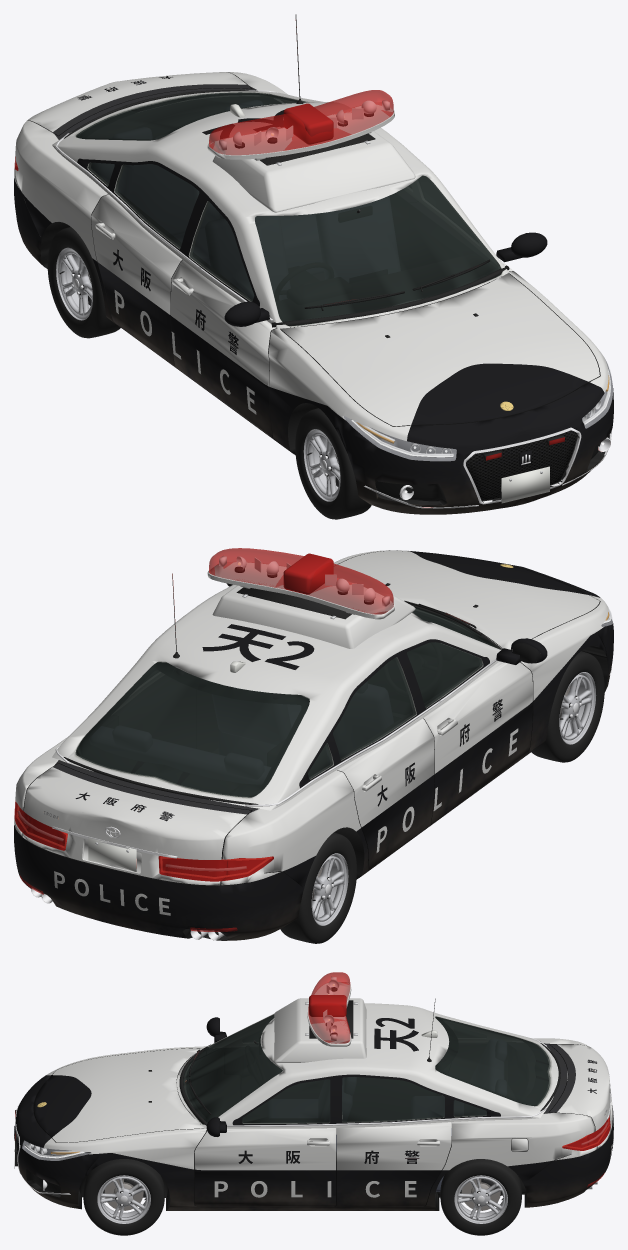
Rendered from police_crown_osaka_game_LOD1.glb.
3 renders of one model, top to bottom at view 1: azimuth 30°, elevation 25°; view 2: azimuth 150°, elevation 25°; view 3: azimuth 270°, elevation 25°, orthographic. The views are drawn at different scales.
Visible parts, largest first — view 1: Body_LOD1, Glass_LOD1, Details_LOD1, Wheel_FR_LOD1, Wheel_RR_LOD1; view 2: Body_LOD1, Glass_LOD1, Details_LOD1, Wheel_RR_LOD1, Wheel_FR_LOD1; view 3: Body_LOD1, Glass_LOD1, Details_LOD1, Wheel_RL_LOD1, Wheel_FL_LOD1.
Boxes of the visible parts, box(x1,y1,x2,y2) form: Body_LOD1: box(14, 72, 613, 514); Glass_LOD1: box(14, 90, 612, 460); Details_LOD1: box(16, 14, 611, 508); Wheel_FR_LOD1: box(295, 408, 371, 519); Wheel_RR_LOD1: box(47, 227, 120, 338); Body_LOD1: box(14, 550, 613, 940); Glass_LOD1: box(14, 548, 612, 931); Details_LOD1: box(16, 553, 611, 940); Wheel_RR_LOD1: box(280, 832, 356, 943); Wheel_FR_LOD1: box(531, 651, 604, 762); Body_LOD1: box(16, 998, 613, 1210); Glass_LOD1: box(15, 972, 610, 1186); Details_LOD1: box(14, 976, 613, 1210); Wheel_RL_LOD1: box(440, 1159, 521, 1235); Wheel_FL_LOD1: box(83, 1159, 164, 1235).
Bounding box in the file's own units: 2.19 × 1.94 × 4.91.
Materials: 7 (3 with a texture image).
